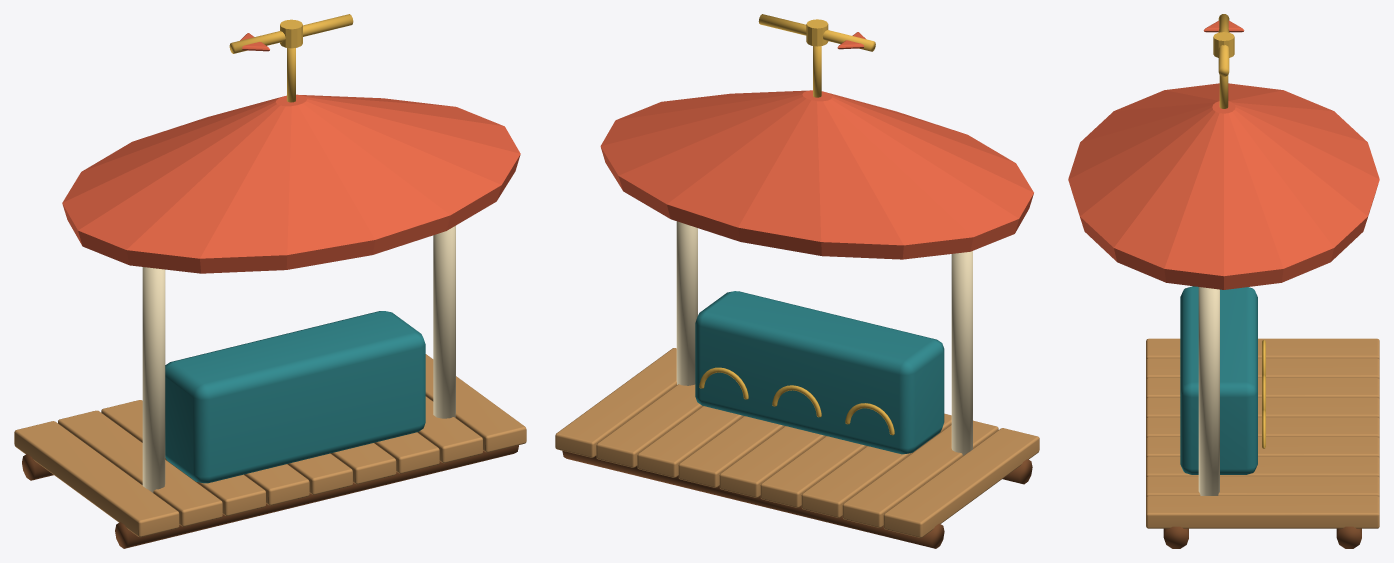
File: festival-pavilion.glb
3 views of the same model, side by side, from view 1: azimuth 30°, elevation 25°; view 2: azimuth 150°, elevation 25°; view 3: azimuth 270°, elevation 25° (orthographic). The views are drawn at different scales.
Visible parts, largest first — view 1: Structure, AnimatedDetail; view 2: Structure, AnimatedDetail; view 3: Structure, AnimatedDetail.
Part boxes in pixels (x1,y1,x2,y2): Structure: [14, 48, 526, 548]; AnimatedDetail: [229, 14, 353, 53]; Structure: [555, 46, 1039, 548]; AnimatedDetail: [758, 14, 875, 51]; Structure: [1068, 75, 1379, 548]; AnimatedDetail: [1203, 14, 1244, 76].
Size of the model in its own units: 4.7 by 4.8 by 3.2.
